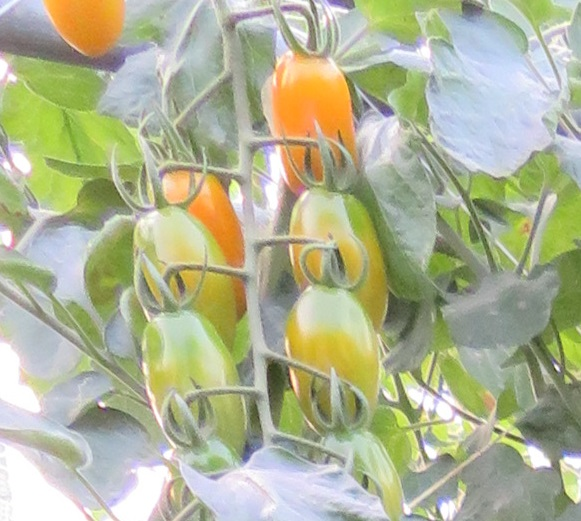green: (141, 310, 254, 443), (286, 287, 382, 426), (290, 188, 390, 297), (132, 209, 239, 310)
orange: (272, 49, 372, 193), (160, 167, 244, 244), (46, 1, 135, 60)
